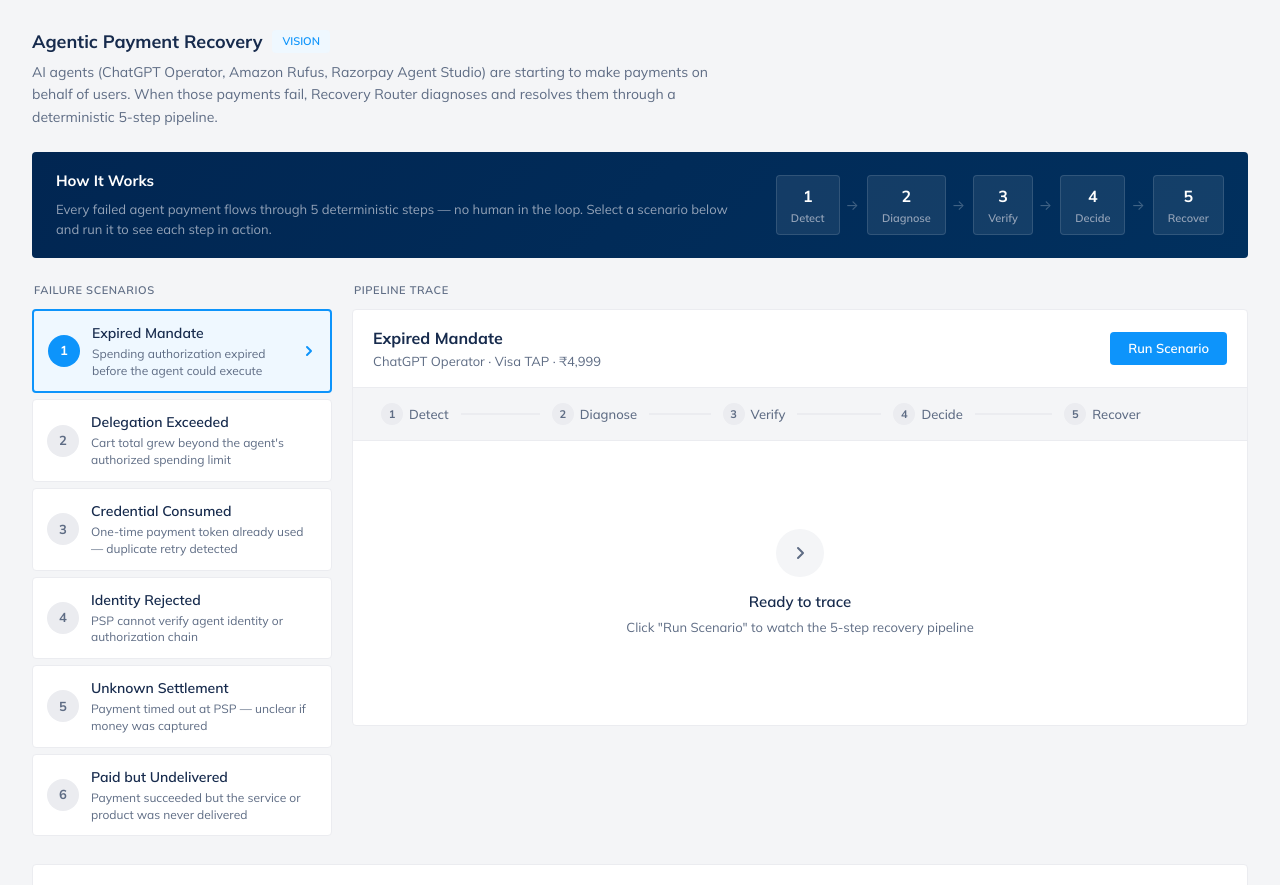
Test: AgenticDemoPage › starts animation when Run Scenario is clicked
The image size is (1280, 885).
Click the button "Run Scenario": (1169, 349) [1110,332,1227,365]
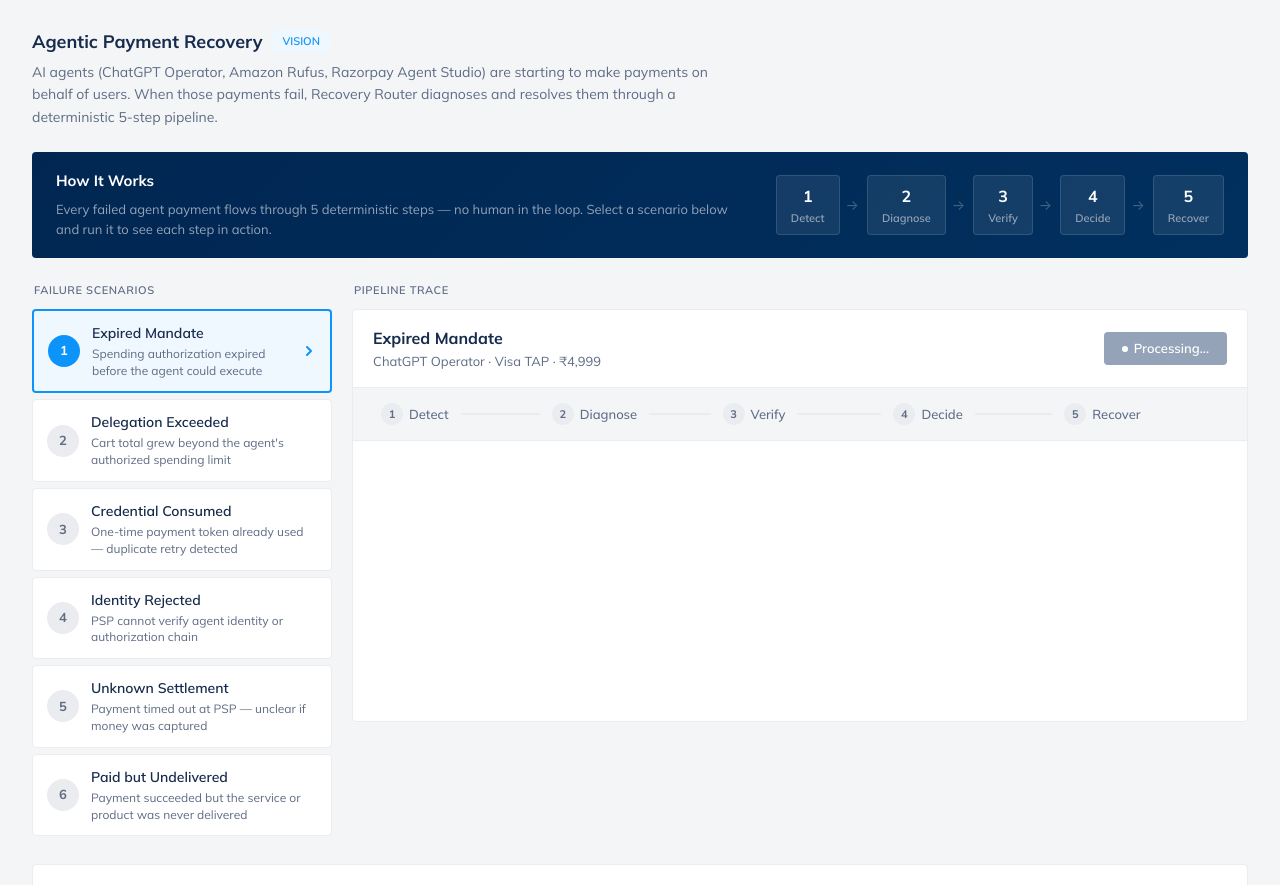
Expected: the button "Processing..." is shown, [1104,332,1227,365]
